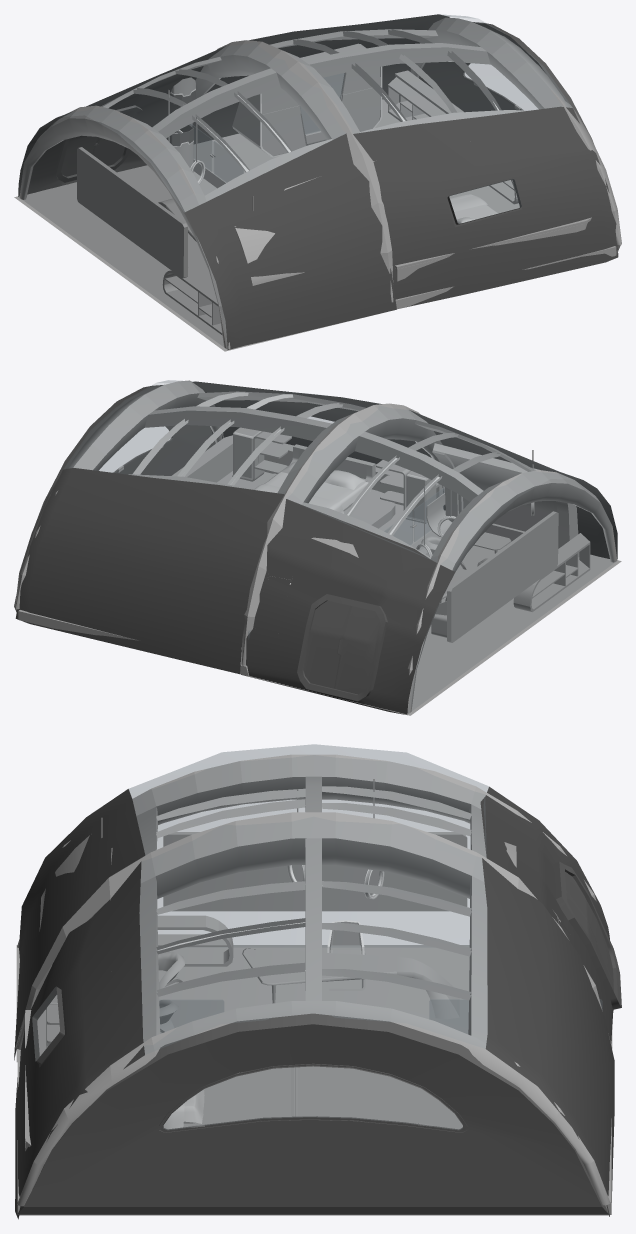
The model's file is scene test fbx for week 8.fbx.
The picture shows the model from 3 angles, top to bottom: view 1: azimuth 30°, elevation 25°; view 2: azimuth 150°, elevation 25°; view 3: azimuth 270°, elevation 25°; orthographic projection. The views are drawn at different scales.
Visible parts, largest first — view 1: walls, window, polySurface206, ceiling_frame_Low, ground1, ceiling2, screen, closet, polySurface162, ceiling, wall_stand, container1 (+8 smaller); view 2: walls, window, polySurface206, ceiling_frame_Low, ground1, ceiling2, door, screen, polySurface162, ceiling, polySurface212, low_bed_cover (+9 smaller); view 3: polySurface162, polySurface206, walls, ceiling_frame_Low, window, ground1, ceiling, ceiling2, screen, desk_and_chair, door, container1 (+8 smaller).
Part boxes in pixels (bbox=[...]): walls: bbox=[18, 14, 618, 349]; window: bbox=[19, 42, 345, 346]; polySurface206: bbox=[253, 14, 571, 133]; ceiling_frame_Low: bbox=[19, 17, 621, 349]; ground1: bbox=[14, 99, 616, 351]; ceiling2: bbox=[101, 29, 527, 201]; screen: bbox=[77, 147, 187, 278]; closet: bbox=[232, 43, 382, 157]; polySurface162: bbox=[419, 22, 620, 256]; ceiling: bbox=[133, 29, 501, 172]; wall_stand: bbox=[395, 70, 591, 281]; container1: bbox=[162, 267, 222, 335]; walls: bbox=[15, 381, 617, 714]; window: bbox=[287, 406, 616, 713]; polySurface206: bbox=[64, 380, 376, 493]; ceiling_frame_Low: bbox=[15, 380, 617, 713]; ground1: bbox=[18, 471, 621, 715]; ceiling2: bbox=[128, 391, 535, 558]; door: bbox=[297, 594, 387, 701]; screen: bbox=[447, 511, 558, 642]; polySurface162: bbox=[14, 385, 222, 611]; ceiling: bbox=[132, 392, 500, 535]; polySurface212: bbox=[432, 443, 579, 557]; low_bed_cover: bbox=[253, 444, 375, 513]; polySurface162: bbox=[17, 1013, 608, 1215]; polySurface206: bbox=[140, 817, 486, 1054]; walls: bbox=[14, 786, 614, 1219]; ceiling_frame_Low: bbox=[15, 754, 612, 1206]; window: bbox=[129, 744, 488, 946]; ground1: bbox=[16, 945, 612, 1214]; ceiling: bbox=[156, 786, 471, 1000]; ceiling2: bbox=[110, 776, 516, 1043]; screen: bbox=[163, 832, 467, 911]; desk_and_chair: bbox=[242, 920, 459, 1019]; door: bbox=[553, 861, 621, 1009]; container1: bbox=[157, 915, 233, 966].
Size of what is drawn, in the model's own units: 13.19 by 5.65 by 12.24.
